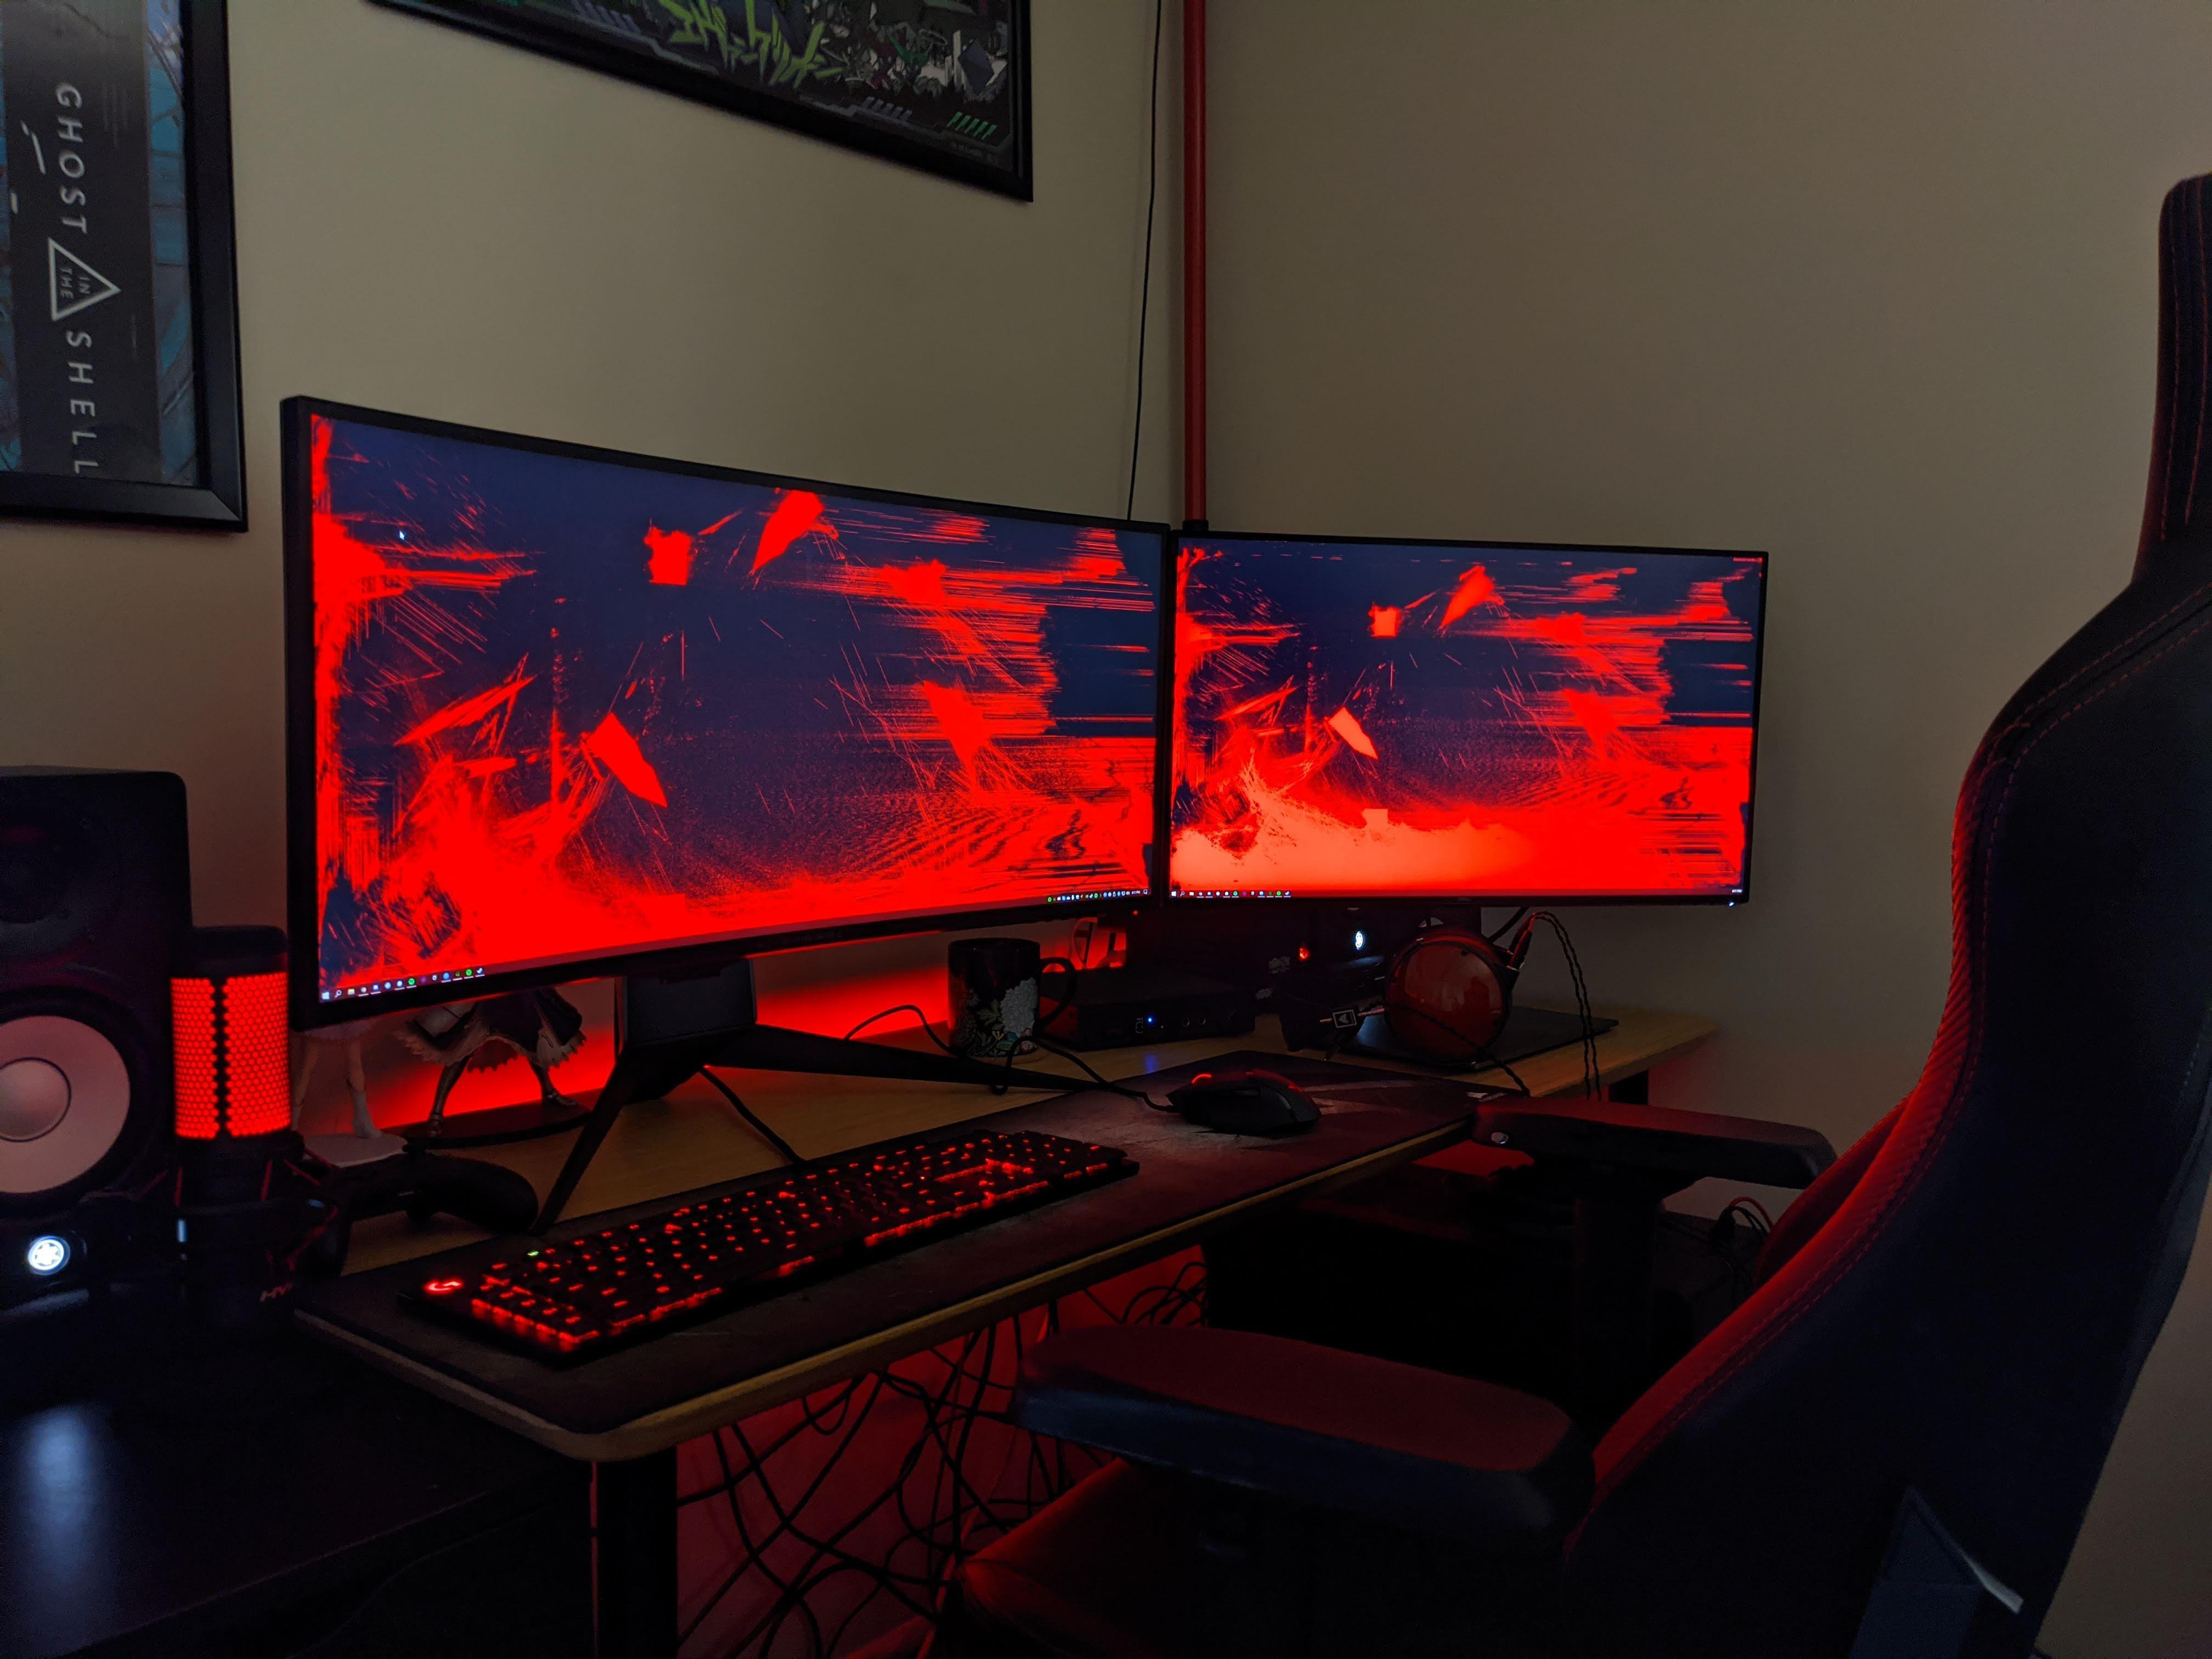Chair (Gaming): (890, 162, 2212, 1603)
Decoration (Miniature): (268, 962, 611, 1157)
Desk (Generic): (207, 985, 1806, 1659)
External Speakers (Subwoofers): (0, 734, 228, 1382)
Headphones: (1372, 897, 1576, 1082)
Keyboard (Gaming): (406, 1126, 1162, 1364)
Lamp (Desk): (134, 904, 338, 1269)
Monitor (Landscape): (265, 390, 1191, 1026), (1143, 526, 1784, 927)
Mouse (Gaming): (1151, 1053, 1343, 1154)
Mousepad (Generic): (280, 983, 1484, 1473)
Mug: (932, 932, 1082, 1086)
